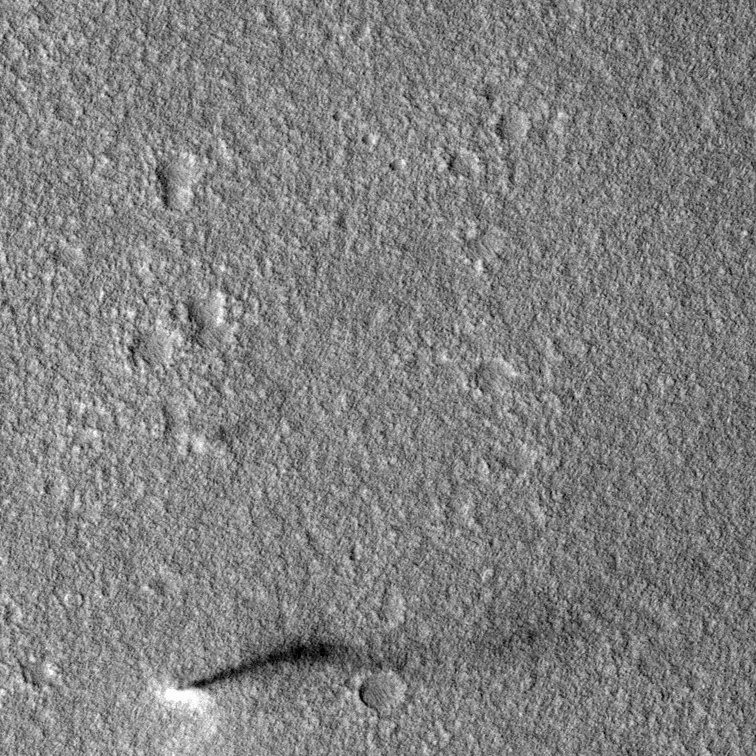dust_devil: (158, 630, 404, 747)
